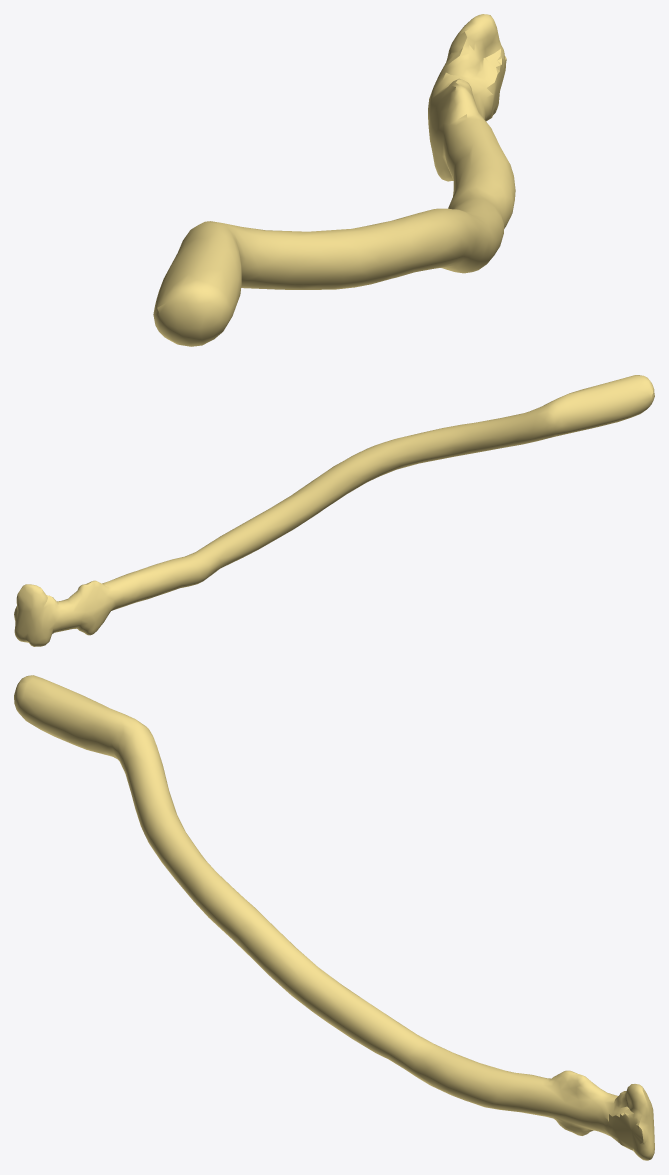
The model's file is fma53432_mm2619m.glb.
3 views of the same model, one above another, from view 1: azimuth 30°, elevation 25°; view 2: azimuth 150°, elevation 25°; view 3: azimuth 270°, elevation 25° (orthographic). The views are drawn at different scales.
Parts seen in each view (by area): view 1: FMA53432_MM2619M; view 2: FMA53432_MM2619M; view 3: FMA53432_MM2619M.
Part boxes in pixels (x1,y1,x2,y2): FMA53432_MM2619M: (153, 14, 515, 346); FMA53432_MM2619M: (14, 375, 654, 646); FMA53432_MM2619M: (14, 675, 654, 1160).
Bounding box in the file's own units: 0.0241 × 0.0106 × 0.0253.
